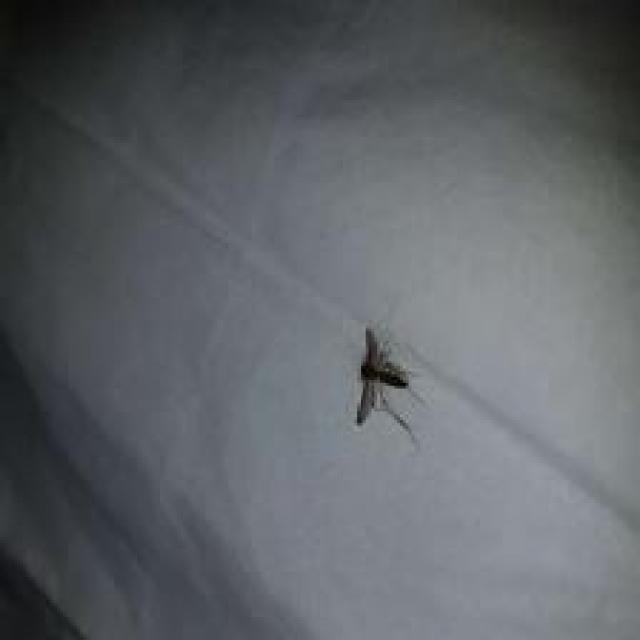Culex: (353, 324, 424, 442)
